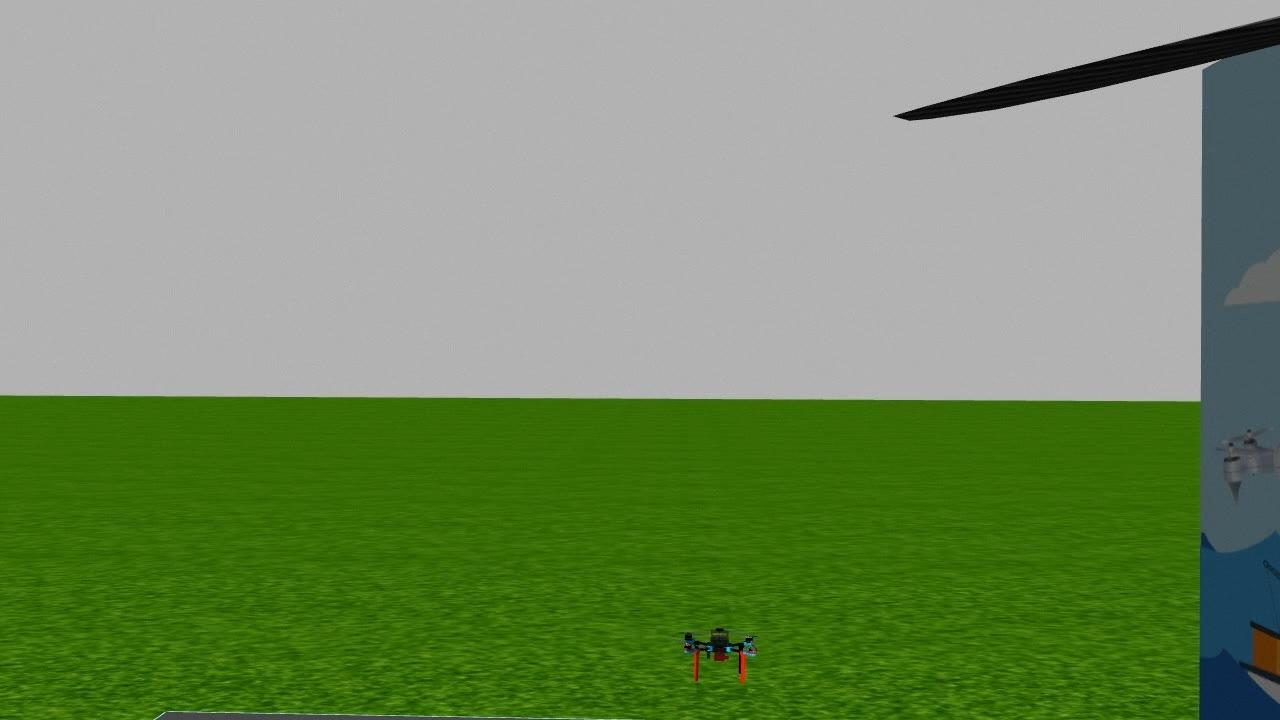UAV: (667, 612, 773, 681)
